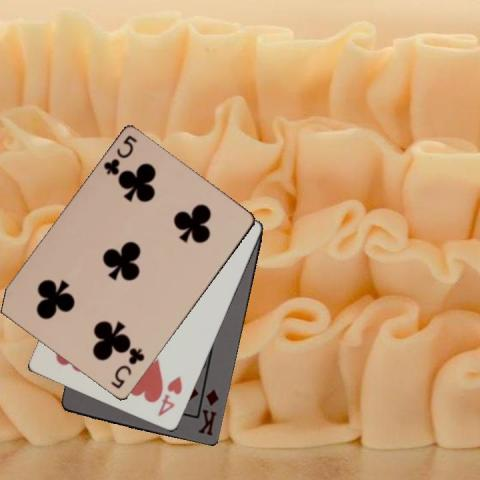4h: (155, 373, 184, 418)
5c: (107, 345, 146, 391), (100, 132, 139, 177)
Kd: (196, 386, 222, 437)
